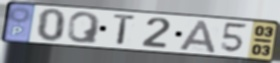0: (34, 7, 69, 43)
2: (141, 17, 174, 50)
5: (218, 21, 250, 55)
A: (178, 19, 218, 54)
Q: (66, 11, 103, 45)
T: (111, 12, 139, 47)
